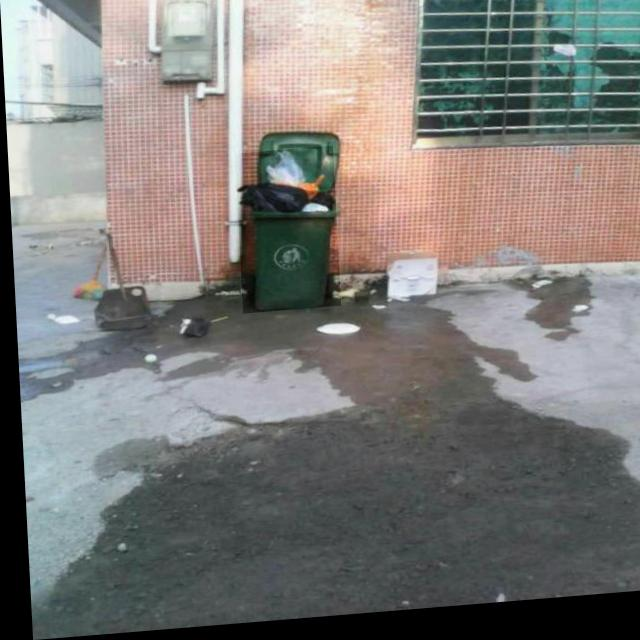overflow: (233, 151, 337, 318)
